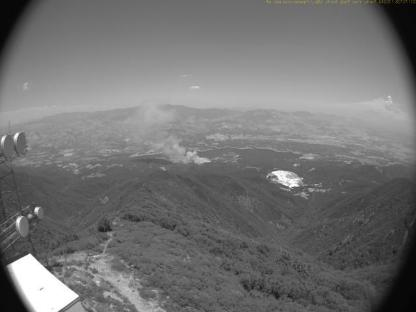smoke: (118, 100, 212, 166)
